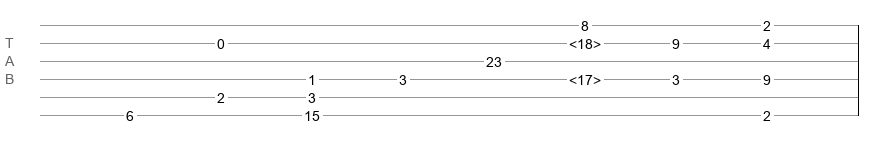0: (217, 36, 225, 46)
1: (308, 72, 316, 82)
15: (304, 108, 320, 118)
2: (217, 90, 225, 100), (763, 18, 771, 28), (763, 108, 771, 118)
23: (486, 54, 502, 64)
3: (308, 90, 316, 100), (399, 72, 407, 82), (672, 72, 680, 82)
4: (763, 36, 771, 46)
6: (126, 108, 134, 118)
8: (581, 18, 589, 28)
9: (672, 36, 680, 46), (763, 72, 771, 82)
harmonic: (569, 72, 601, 82), (569, 36, 601, 46)
